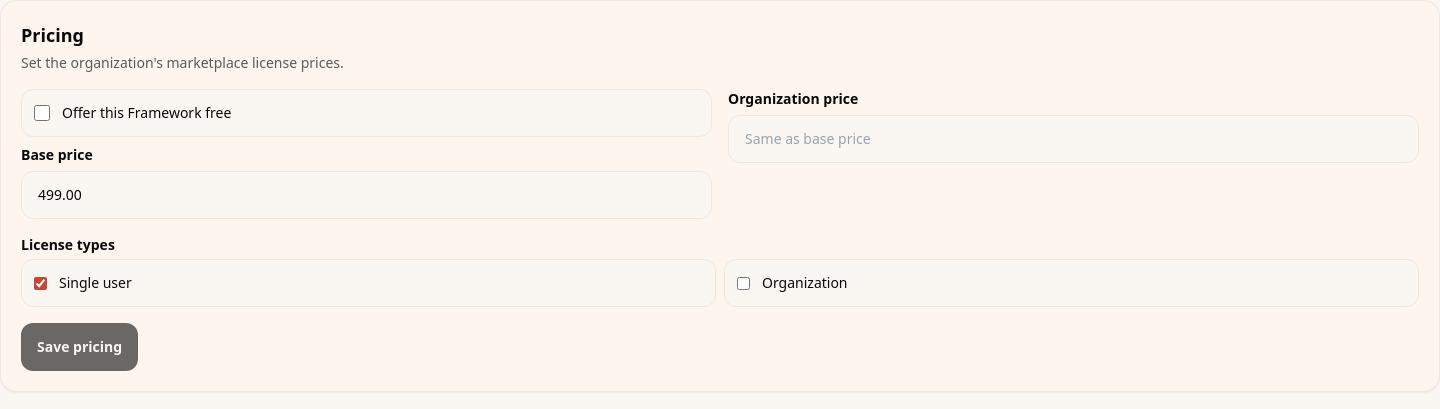
Test: FrameworkPricingForm › enables Save pricing when a license type is toggled
Click the checkbox labelled "Organization".
click(744, 283)  # box [737, 276, 750, 290]
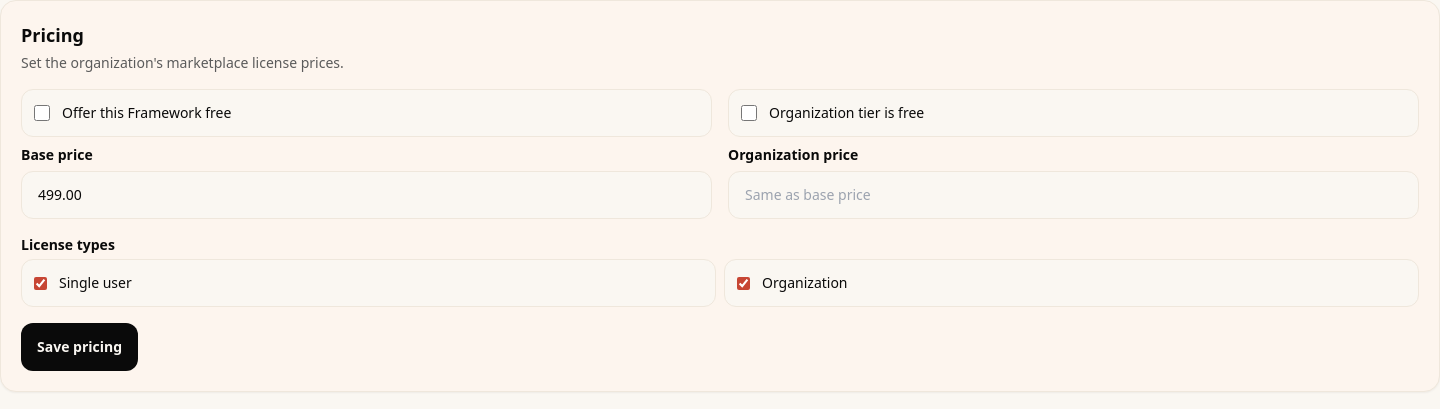
Expected: the button "Save pricing" is enabled, [21, 323, 138, 371]
